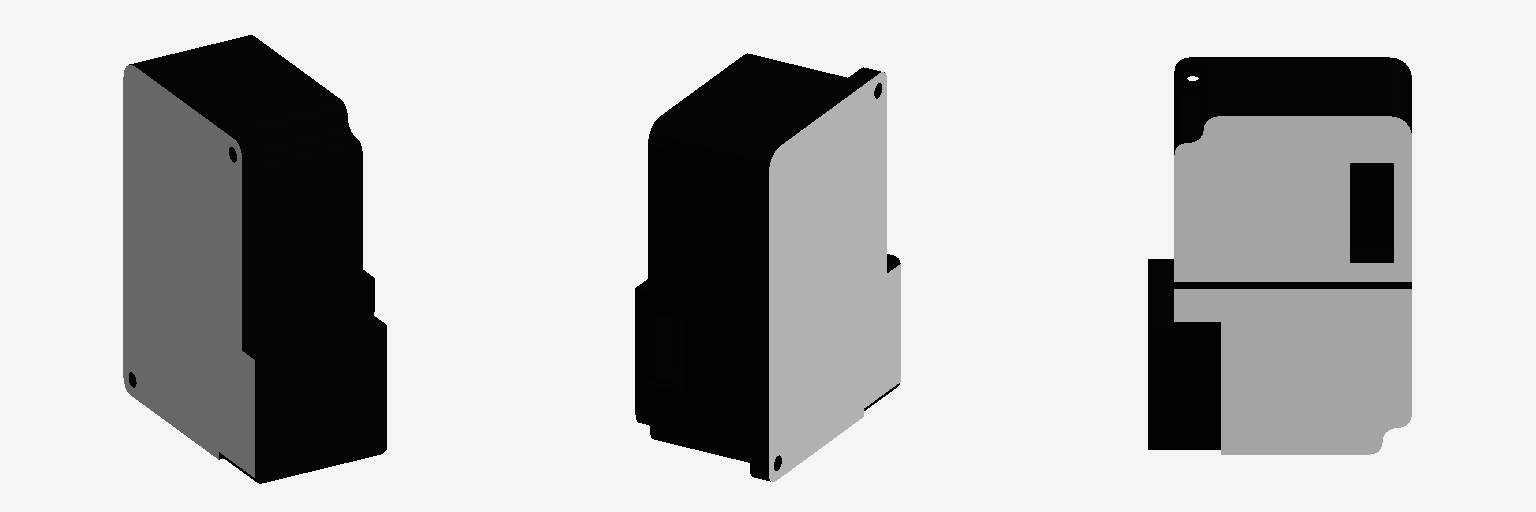
The model's file is WINSENZH03B.obj.
The picture shows the model from 3 angles: view 1: azimuth 30°, elevation 25°; view 2: azimuth 150°, elevation 25°; view 3: azimuth 270°, elevation 25°; orthographic projection.
Parts seen in each view (by area): view 1: Solid1; view 2: Solid1; view 3: Solid1.
Part boxes in pixels (bbox=[...]): Solid1: bbox=[123, 35, 386, 483]; Solid1: bbox=[635, 53, 900, 481]; Solid1: bbox=[1148, 57, 1411, 454].
Size of the model in its own units: 21 by 50 by 36.